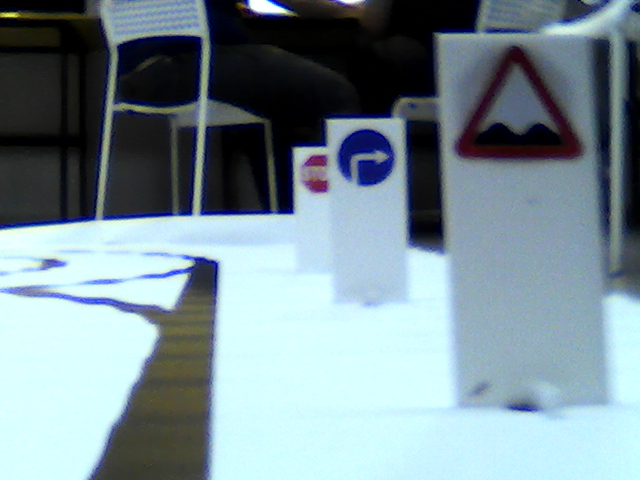Nerov: (456, 44, 585, 161)
Right: (338, 127, 396, 185)
Stop: (301, 154, 330, 192)
